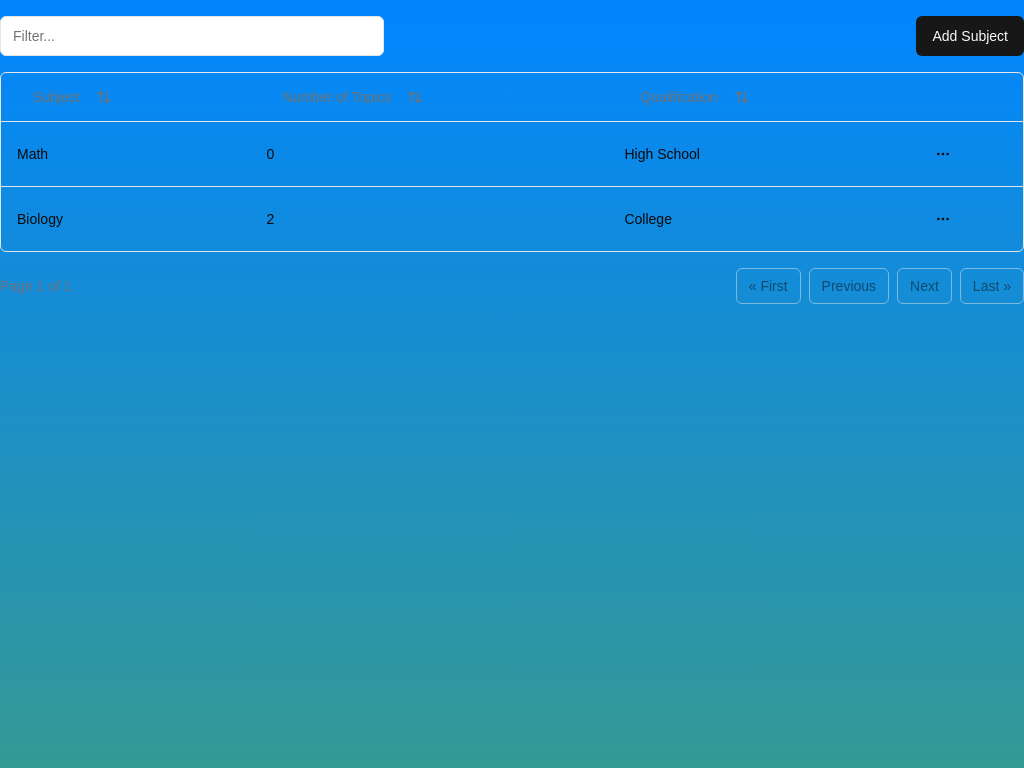
Test: Subject Data Table › opens add subject dialog on button click
Click the button "Add Subject" at x=970, y=36, box x1=916 y1=16 x2=1023 y2=56
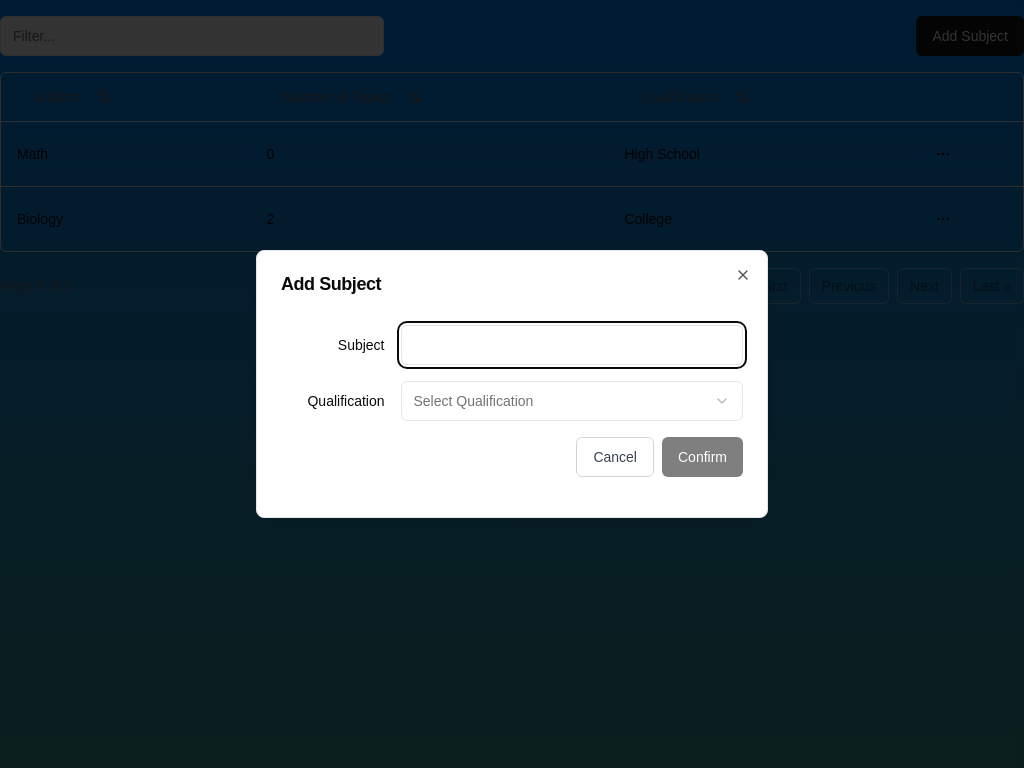
Expected: the heading "Add Subject" is shown, x1=281 y1=274 x2=381 y2=294
Expected: the field labelled "Subject" is shown, x1=400 y1=325 x2=743 y2=365
Expected: the dropdown labelled "Qualification" is shown, x1=400 y1=381 x2=743 y2=421
